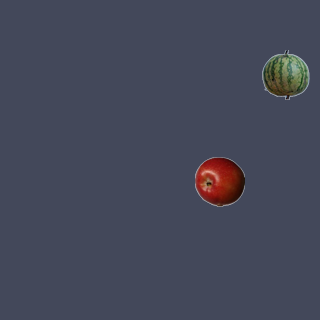Apple Braeburn: (194, 156, 244, 206)
Watermelon: (260, 49, 310, 99)
